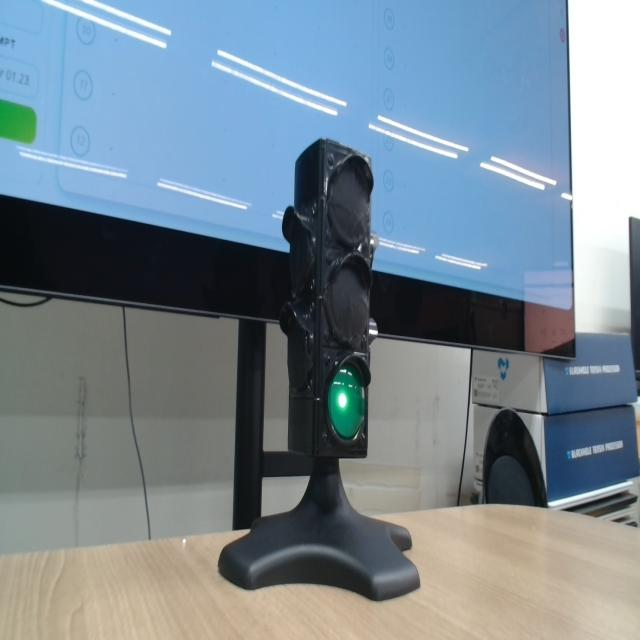green_light: (328, 364, 364, 440)
